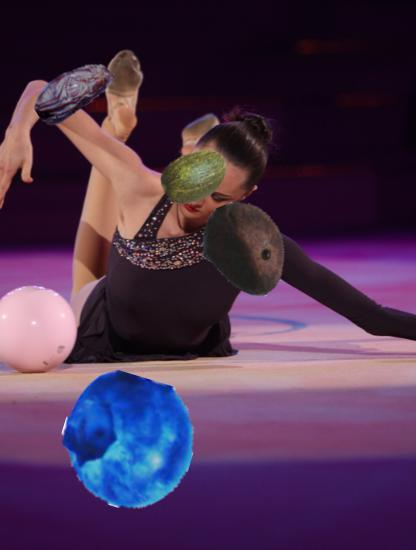Chestnut: (194, 201, 294, 301)
Dates: (31, 48, 117, 134)
Huckleberry: (62, 376, 194, 508)
Melon: (158, 139, 228, 209)
